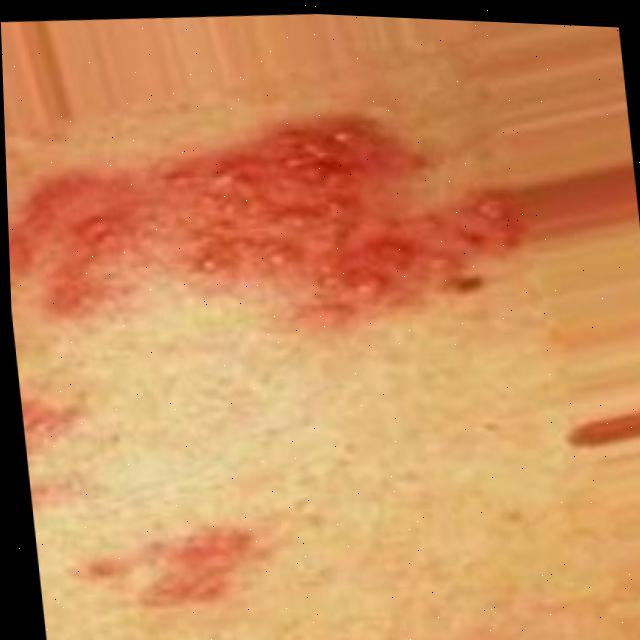Shingles: (24, 104, 482, 330), (148, 525, 257, 619)
